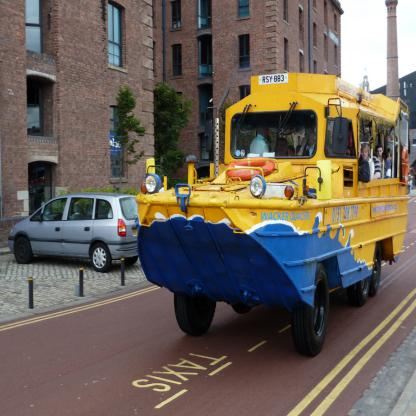Bus: (135, 73, 410, 357)
